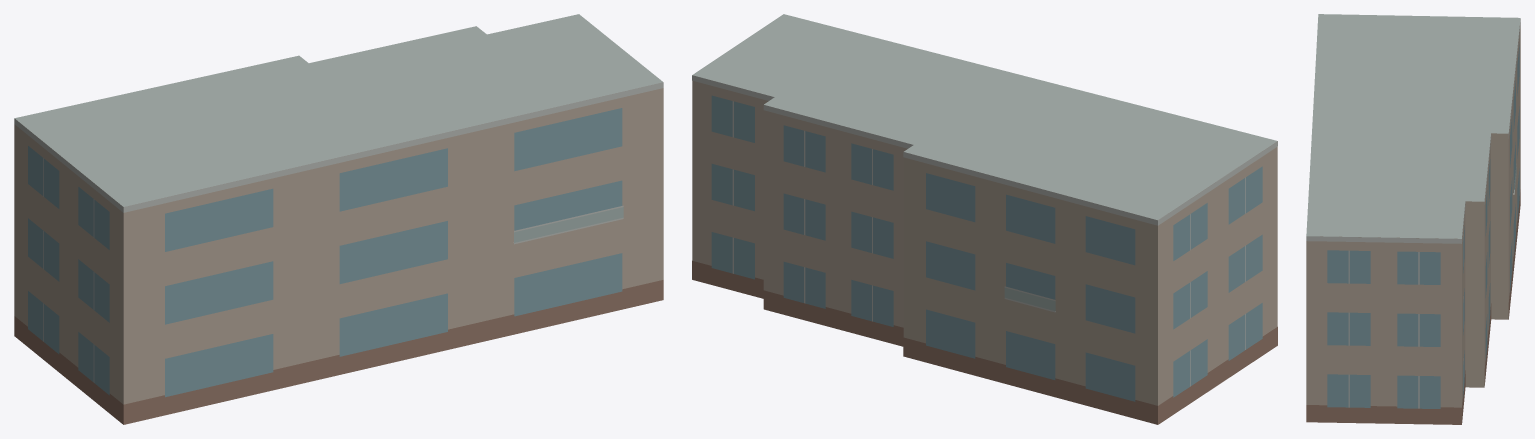
The model's file is survey-upis-32808347.glb.
3 renders of one model, left to right at view 1: azimuth 30°, elevation 25°; view 2: azimuth 150°, elevation 25°; view 3: azimuth 270°, elevation 25°, orthographic. The views are drawn at different scales.
Visible parts, largest first — view 1: survey-upis-32808347.tmp; view 2: survey-upis-32808347.tmp; view 3: survey-upis-32808347.tmp.
Part boxes in pixels (bbox=[...]): survey-upis-32808347.tmp: bbox=[14, 14, 663, 424]; survey-upis-32808347.tmp: bbox=[692, 14, 1277, 424]; survey-upis-32808347.tmp: bbox=[1306, 14, 1520, 424].
Size of the model in its own units: 23.73 by 9.15 by 9.56.
